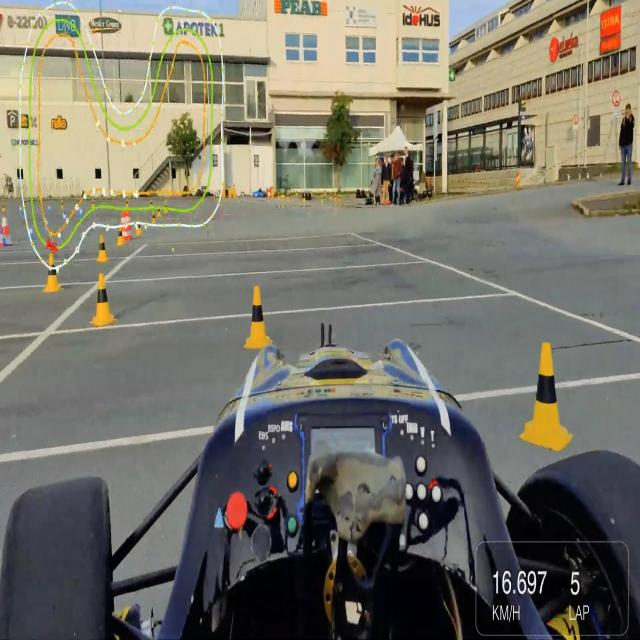blue_cone: (27, 223, 34, 242)
large_orange_cone: (0, 211, 12, 250), (125, 208, 132, 242), (121, 209, 127, 243)
yellow_cone: (520, 338, 573, 452), (242, 283, 272, 346), (91, 271, 115, 327), (44, 250, 60, 292), (96, 233, 109, 263), (136, 217, 142, 239), (117, 227, 123, 245), (163, 201, 169, 215), (124, 200, 130, 214), (151, 210, 156, 226), (149, 198, 154, 212), (156, 204, 160, 220)
